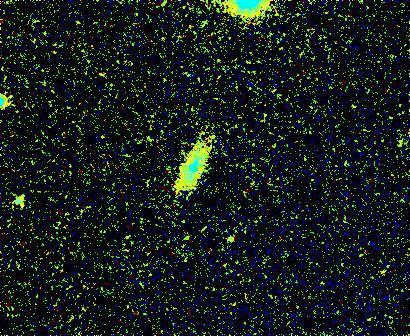star: (214, 226, 244, 256)
